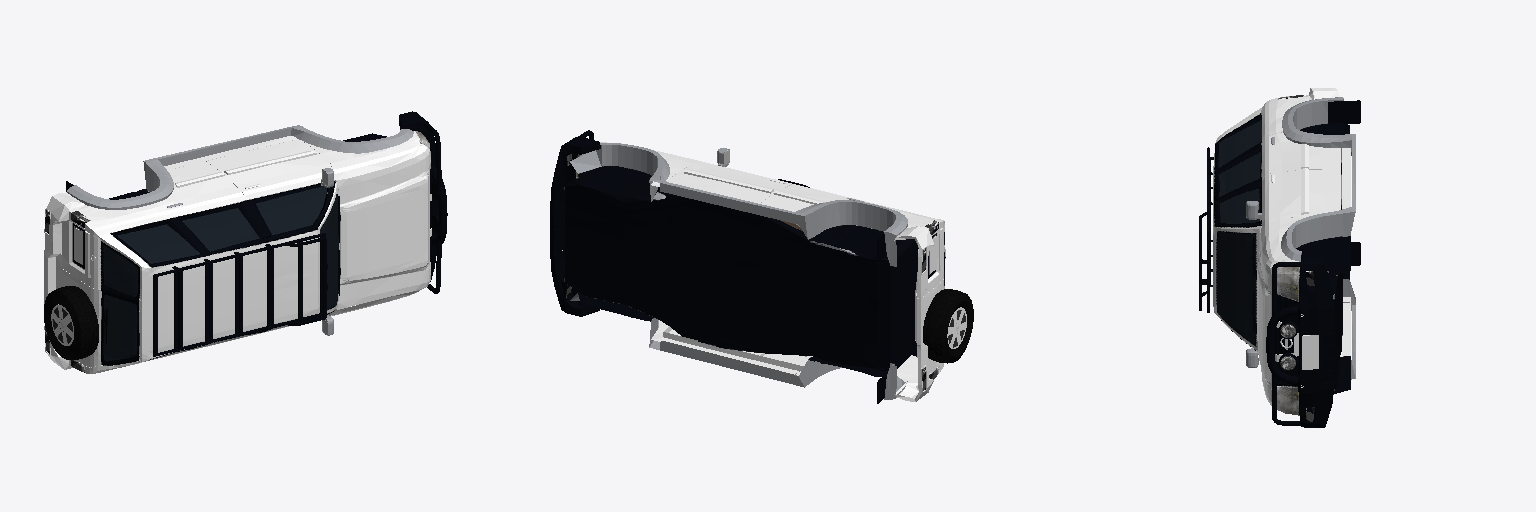
The picture shows the model from 3 angles: view 1: azimuth 30°, elevation 25°; view 2: azimuth 150°, elevation 25°; view 3: azimuth 270°, elevation 25°; orthographic projection.
Parts seen in each view (by area): view 1: Nissan_Chassis_OBJ_0331; view 2: Nissan_Chassis_OBJ_0331; view 3: Nissan_Chassis_OBJ_0331.
Part boxes in pixels (left/top/right/bottom): Nissan_Chassis_OBJ_0331: left=44, top=111, right=447, bottom=373; Nissan_Chassis_OBJ_0331: left=550, top=130, right=973, bottom=403; Nissan_Chassis_OBJ_0331: left=1199, top=88, right=1360, bottom=427.
Bounding box in the file's own units: 5.33 × 2.24 × 1.91.
7 materials, 5 textured.